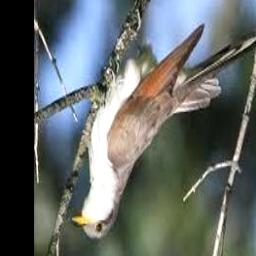Cuckoo: (70, 28, 256, 239)
